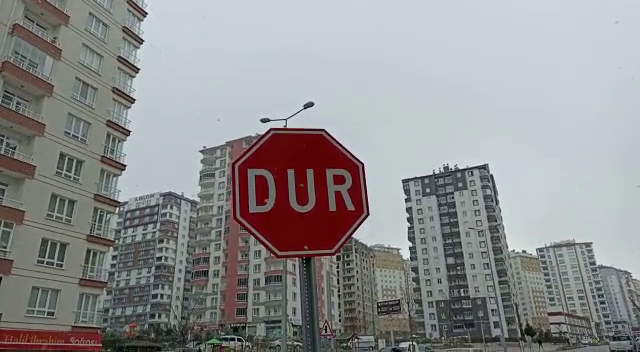stop: (228, 124, 376, 261)
